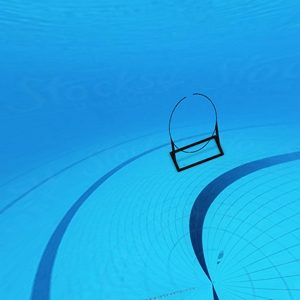circle: (167, 90, 228, 175)
